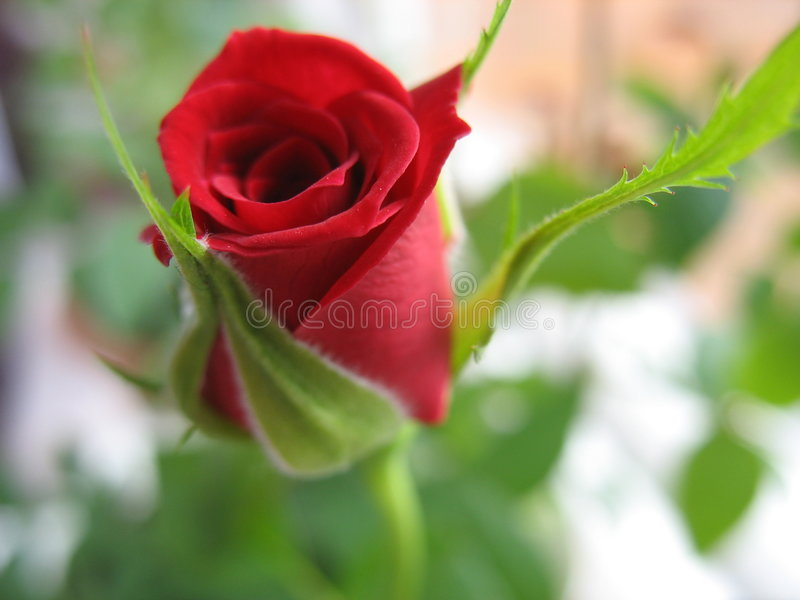RedRose: (159, 9, 524, 473)
